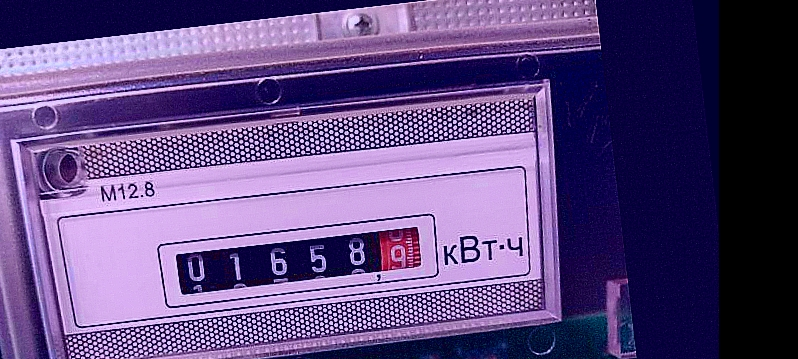0: (183, 249, 208, 283)
1: (227, 249, 244, 281)
5: (307, 240, 329, 274)
6: (267, 243, 291, 277)
8: (345, 234, 368, 268)
9: (387, 241, 407, 269)
screen: (148, 202, 446, 314)
